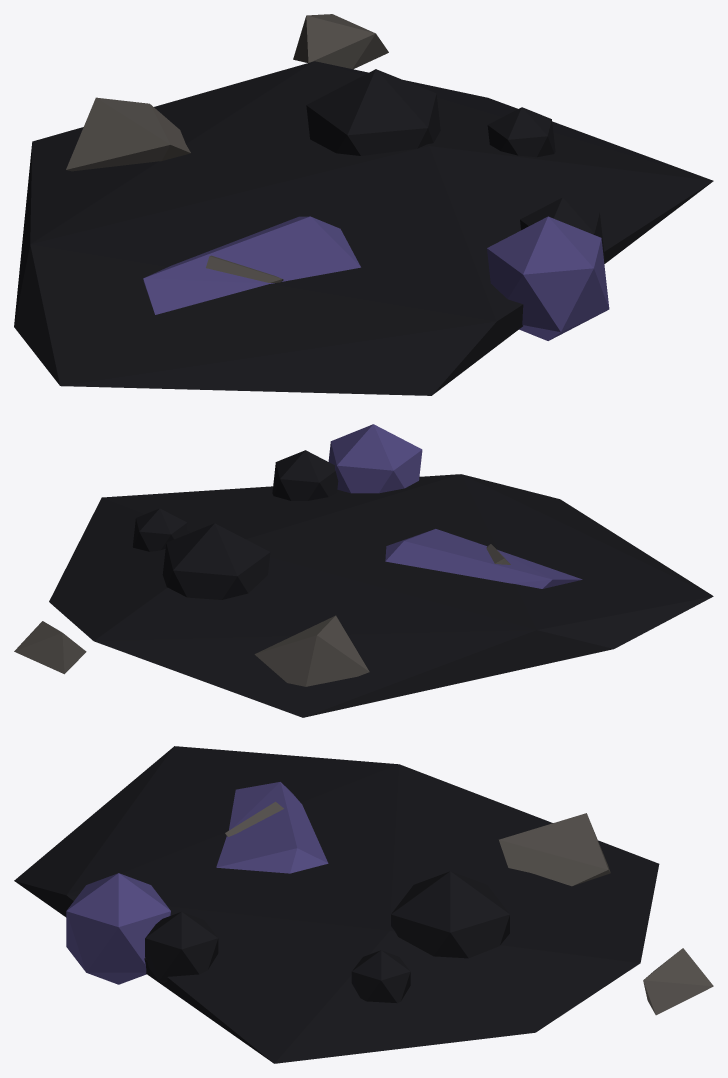
File: minerai_petrole_2.glb
3 views of the same model, one above another, from view 1: azimuth 30°, elevation 25°; view 2: azimuth 150°, elevation 25°; view 3: azimuth 270°, elevation 25° (orthographic). The views are drawn at different scales.
Parts seen in each view (by area): view 1: petrole_petrole.004, petrole_irise.004, petrole_pierre_sombre.004; view 2: petrole_petrole.004, petrole_irise.004, petrole_pierre_sombre.004; view 3: petrole_petrole.004, petrole_irise.004, petrole_pierre_sombre.004.
Part boxes in pixels (x1,y1,x2,y2): petrole_petrole.004: (14,61,713,395); petrole_irise.004: (143,216,609,340); petrole_pierre_sombre.004: (66,14,388,282); petrole_petrole.004: (49,450,713,717); petrole_irise.004: (328,424,582,588); petrole_pierre_sombre.004: (14,544,510,686); petrole_petrole.004: (14,746,659,1063); petrole_irise.004: (66,782,328,984); petrole_pierre_sombre.004: (225,801,713,1015).
Bounding box in the file's own units: 0.3524 × 0.0673 × 0.3364.
